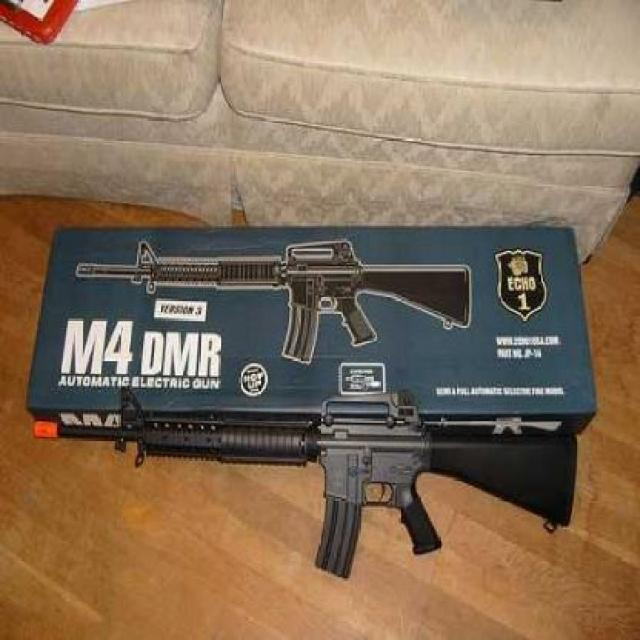weapon: (33, 389, 580, 583), (74, 240, 472, 366)
